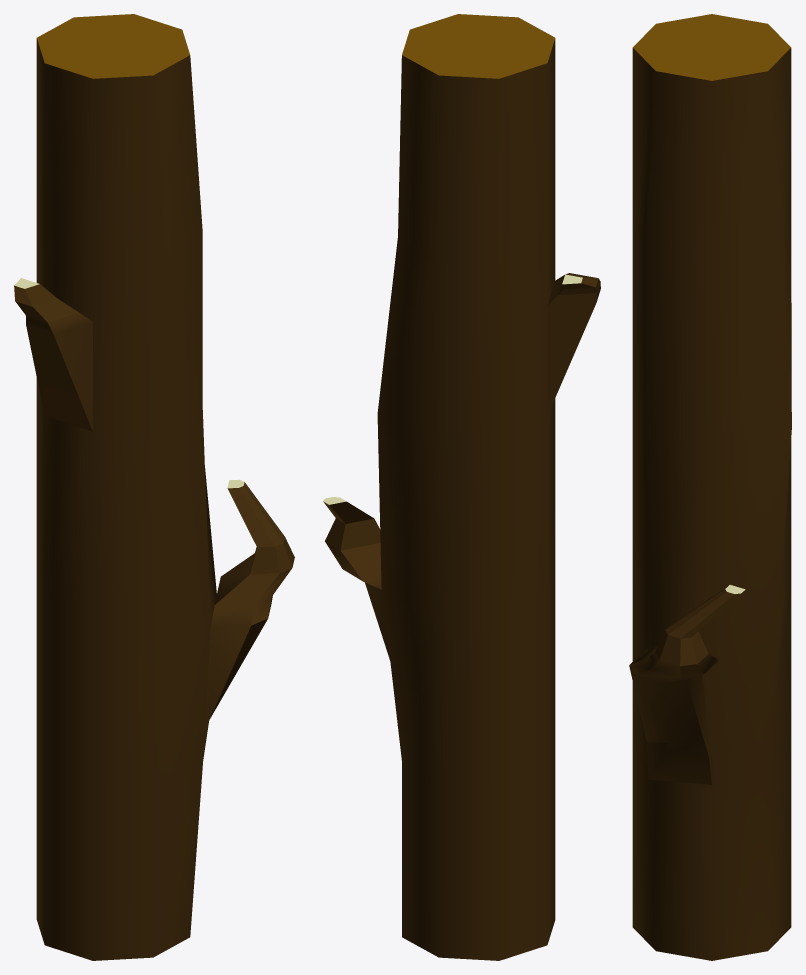
File: Log1.fbx
3 views of the same model, side by side, from view 1: azimuth 30°, elevation 25°; view 2: azimuth 150°, elevation 25°; view 3: azimuth 270°, elevation 25° (orthographic).
Parts seen in each view (by area): view 1: pCylinder58; view 2: pCylinder58; view 3: pCylinder58.
Boxes of the visible parts, x1=… form: pCylinder58: x1=14, y1=14, x2=294, y2=960; pCylinder58: x1=323, y1=14, x2=600, y2=960; pCylinder58: x1=629, y1=14, x2=791, y2=960.
Size of the model in its own units: 0.7941 by 2.45 by 0.4107.
